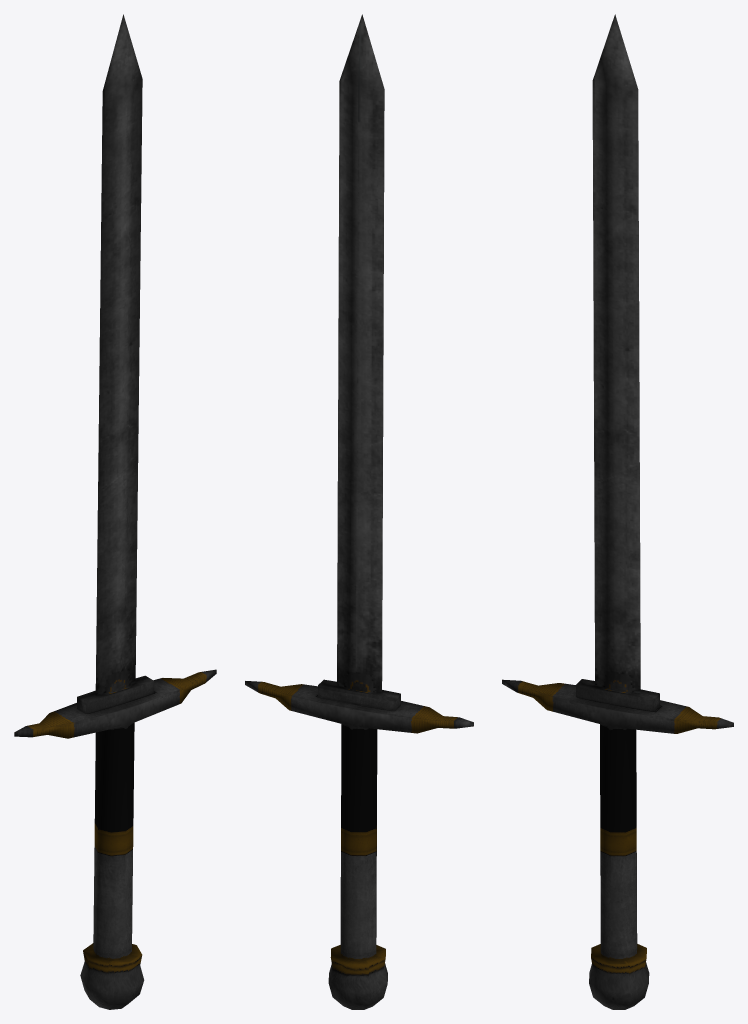
The model's file is Sword2.fbx.
3 renders of one model, left to right at view 1: azimuth 30°, elevation 25°; view 2: azimuth 150°, elevation 25°; view 3: azimuth 330°, elevation 25°, orthographic.
Visible parts, largest first — view 1: Paladin_J_Nordstrom_Sword; view 2: Paladin_J_Nordstrom_Sword; view 3: Paladin_J_Nordstrom_Sword.
Boxes of the visible parts, x1,y1,x2,y2 form: Paladin_J_Nordstrom_Sword: (14,14,216,1009); Paladin_J_Nordstrom_Sword: (245,14,473,1009); Paladin_J_Nordstrom_Sword: (502,14,733,1009).
Bounding box in the file's own units: 23.86 × 105 × 6.12.
Materials: 1 (1 with a texture image).
